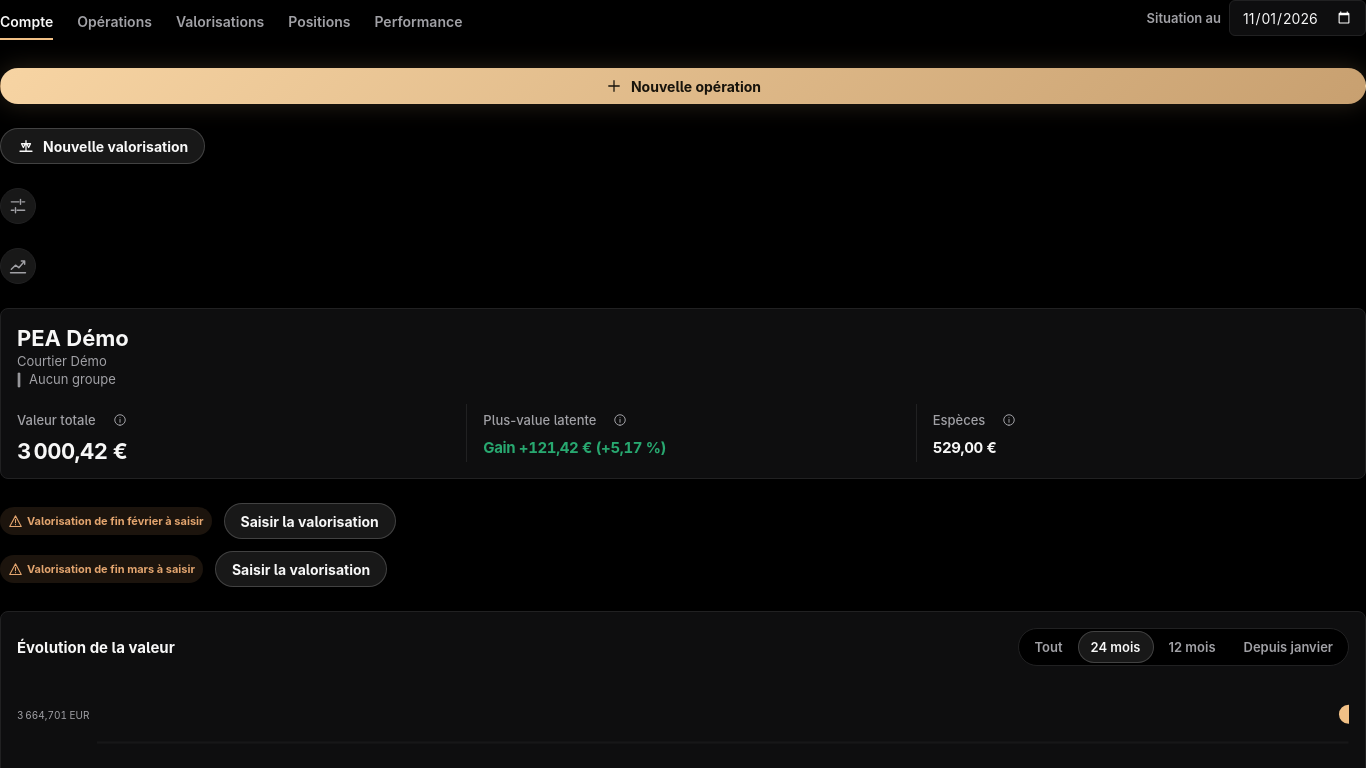
Scenario: PortfolioAccountPage › shows one reminder per due month and opens the valuation modal from it
The image size is (1366, 768).
Expected: the text "Valorisation de fin février à saisir" is shown, x1=27 y1=514 x2=204 y2=528
Expected: the text "Valorisation de fin mars à saisir" is shown, x1=27 y1=562 x2=195 y2=576
Click the link "Saisir la valorisation" next to "Valorisation de fin février à saisir" at [310, 522], box x1=224 y1=504 x2=396 y2=540
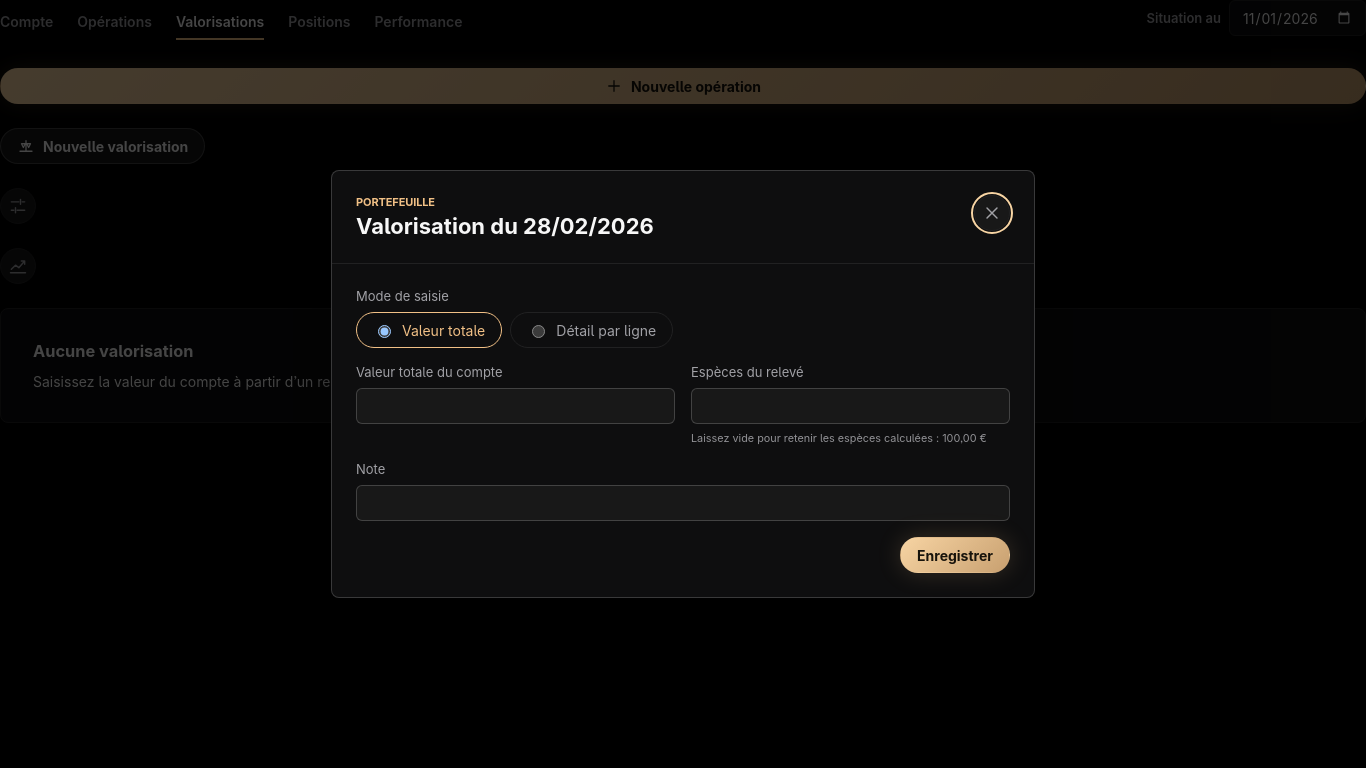
Result: the text "Laissez vide pour retenir les espèces calculées : 100,00 €" is shown at x1=691 y1=432 x2=1010 y2=445
